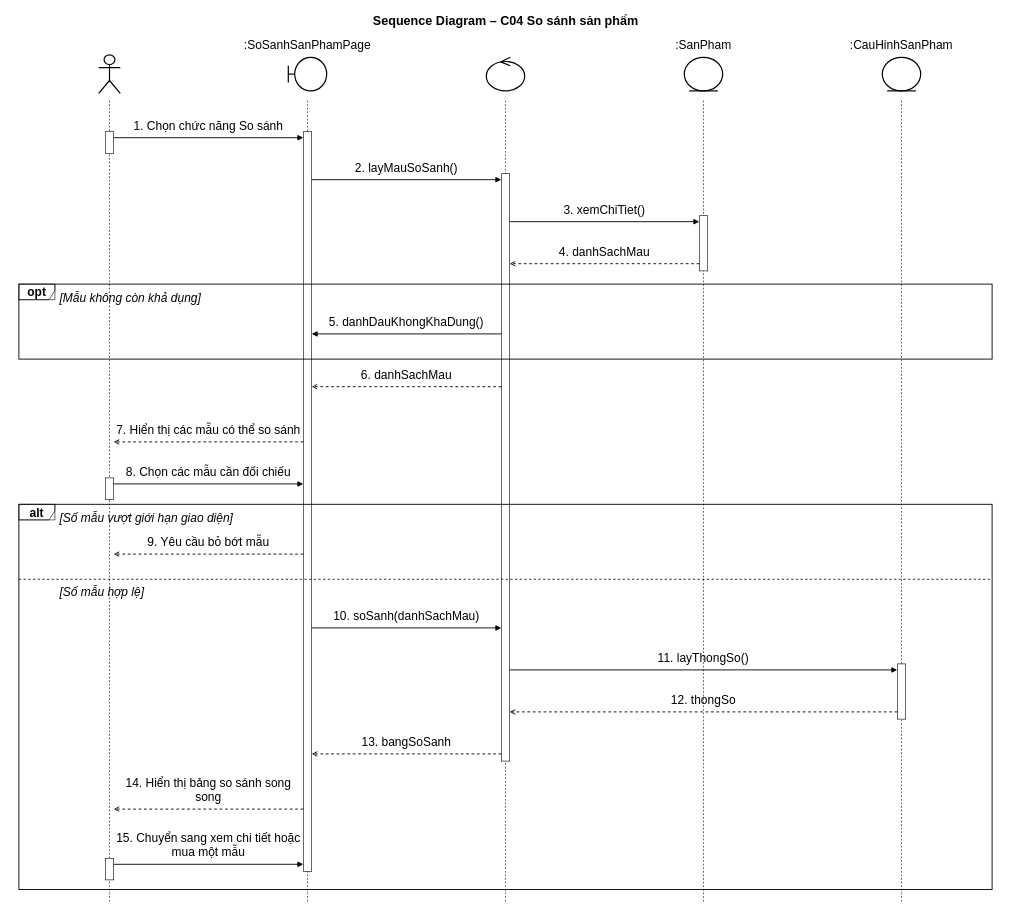
Image size: 1010x913. Some labels were removed from this diagram. The centre of each missing label's shape, as x and y in pixels:
":Khách hàng" belongs at (x=109, y=74).
":SoSanhSanPhamController" belongs at (x=505, y=73).
